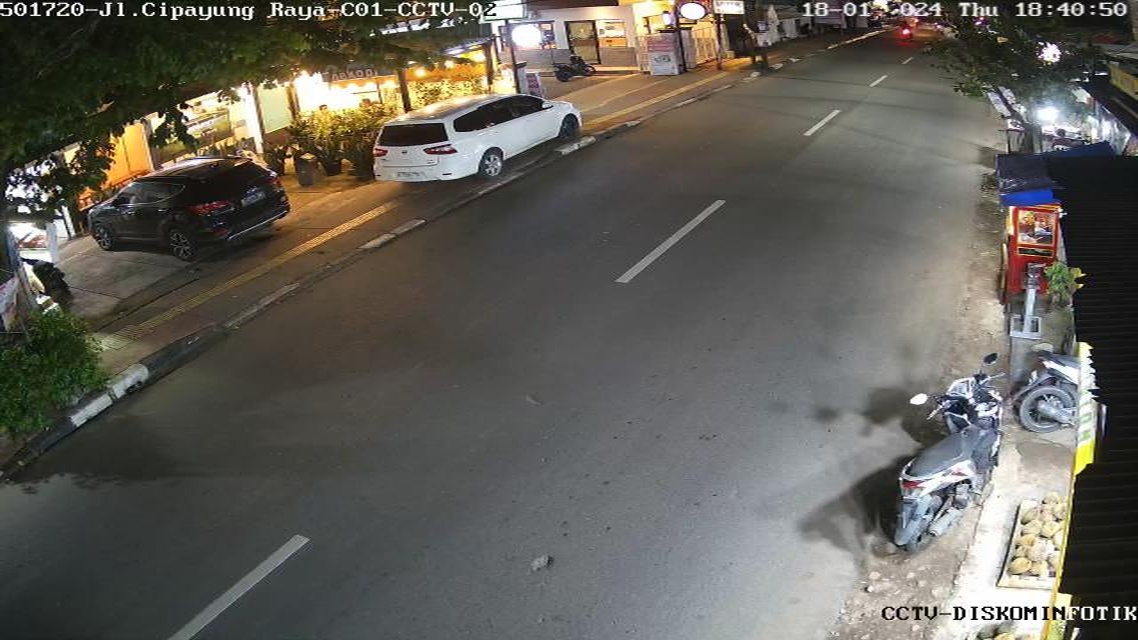Gerobak: (974, 165, 1074, 306)
